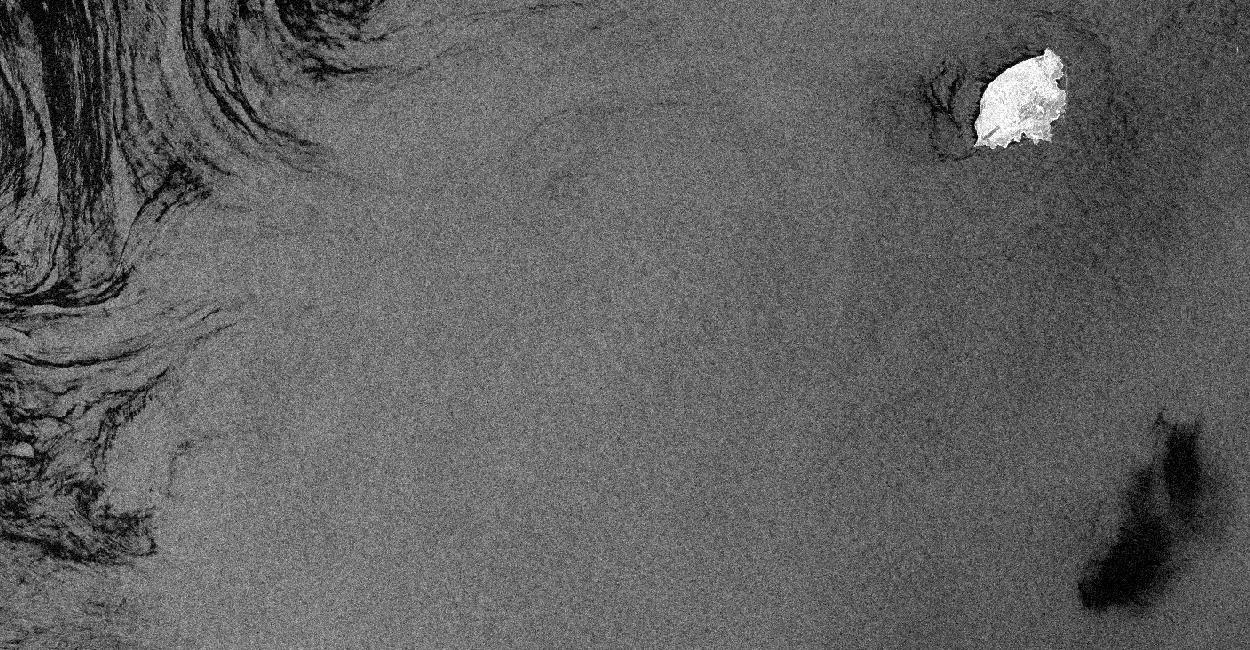Oil Spill: (1074, 419, 1216, 618), (1154, 487, 1164, 503), (1156, 510, 1162, 514), (1160, 480, 1162, 483), (1130, 488, 1132, 490)
